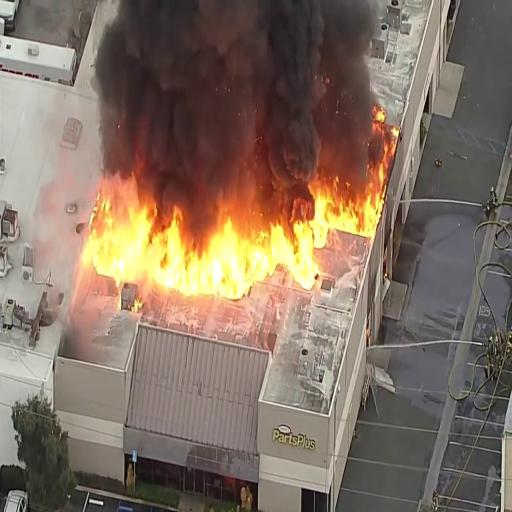fire: (139, 212, 239, 290), (95, 177, 146, 270), (253, 214, 316, 284), (302, 202, 374, 245)
smoke: (191, 0, 259, 179), (115, 0, 189, 158), (266, 0, 320, 180)
